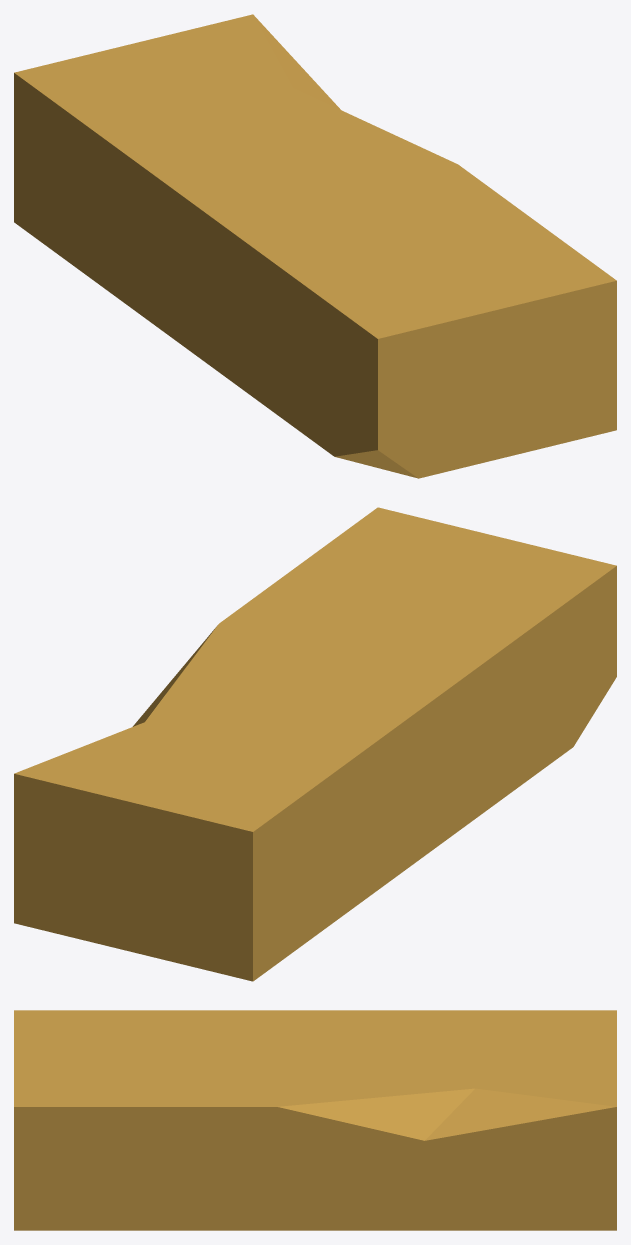
Rendered from SM_Prop_ToyBlock_03.fbx.
3 views of the same model, one above another, from view 1: azimuth 30°, elevation 25°; view 2: azimuth 150°, elevation 25°; view 3: azimuth 270°, elevation 25° (orthographic). The views are drawn at different scales.
Parts seen in each view (by area): view 1: SM_Prop_ToyBlock_03; view 2: SM_Prop_ToyBlock_03; view 3: SM_Prop_ToyBlock_03.
Part boxes in pixels (bbox=[...]): SM_Prop_ToyBlock_03: bbox=[14, 14, 616, 478]; SM_Prop_ToyBlock_03: bbox=[14, 507, 616, 981]; SM_Prop_ToyBlock_03: bbox=[14, 1010, 616, 1230].
Size of the model in its own units: 12 by 7.18 by 31.64.
